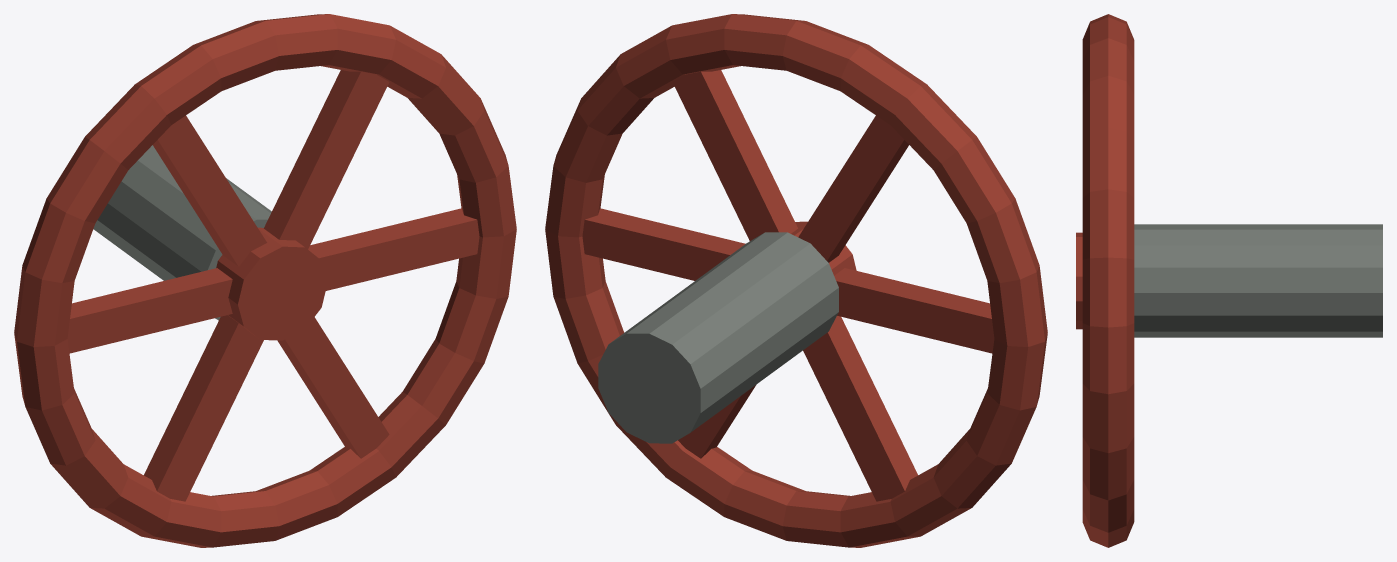
The model's file is valve.glb.
3 views of the same model, side by side, from view 1: azimuth 30°, elevation 25°; view 2: azimuth 150°, elevation 25°; view 3: azimuth 270°, elevation 25° (orthographic). The views are drawn at different scales.
Parts seen in each view (by area): view 1: Torus, Cube.002, Cube, Cube.001, Cylinder, Cylinder.001; view 2: Torus, Cylinder, Cube.002, Cube, Cube.001; view 3: Cylinder, Torus, Cylinder.001.
Boxes of the visible parts, x1,y1,x2,y2 form: Torus: [14, 14, 516, 547]; Cube.002: [144, 70, 389, 501]; Cube: [67, 208, 479, 353]; Cube.001: [153, 115, 389, 458]; Cylinder: [93, 145, 271, 320]; Cylinder.001: [216, 227, 327, 340]; Torus: [545, 14, 1047, 547]; Cylinder: [598, 232, 838, 443]; Cube.002: [672, 70, 917, 501]; Cube: [582, 208, 994, 353]; Cube.001: [678, 115, 908, 458]; Cylinder: [1134, 224, 1382, 337]; Torus: [1082, 14, 1134, 547]; Cylinder.001: [1076, 232, 1082, 329].
Size of the model in its own units: 0.332 by 0.332 by 0.19.
